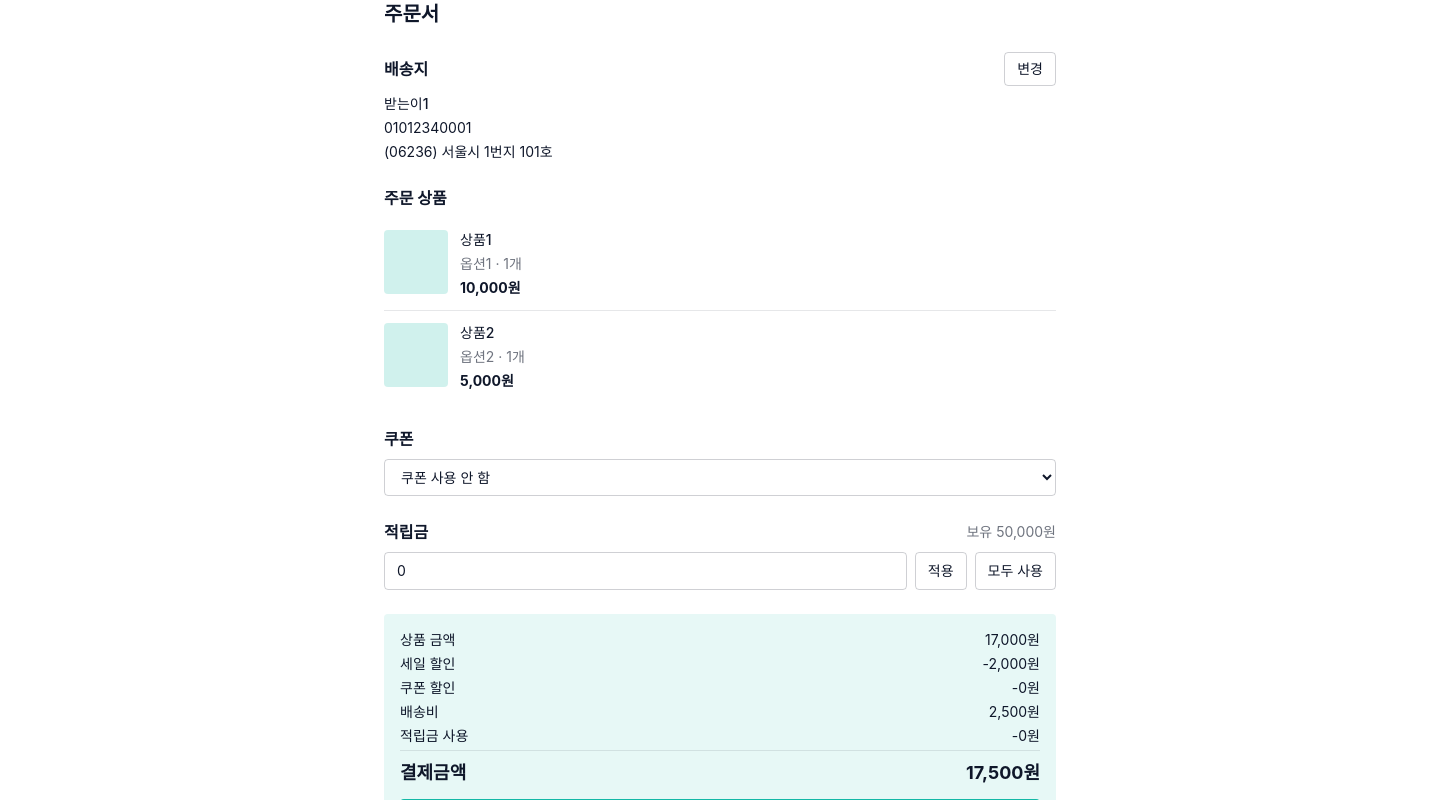
Scenario: 변경으로 다른 배송지를 고른다
Click the button "변경" at {"x": 1030, "y": 69}, box [1004,52,1056,86]
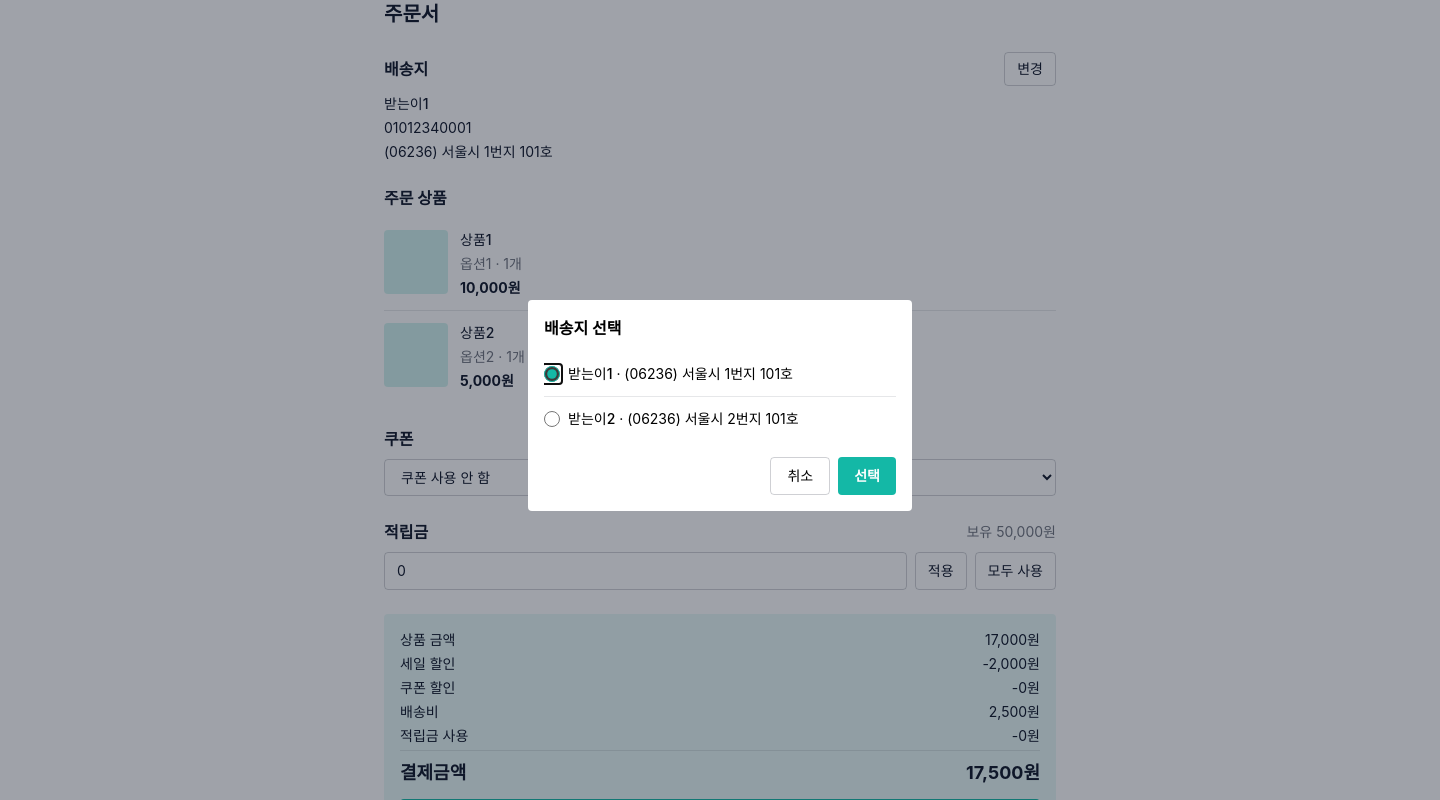
Click the radio button labelled "받는이2 · (06236) 서울시 2번지 101호" at {"x": 552, "y": 418}, box [544,410,560,426]
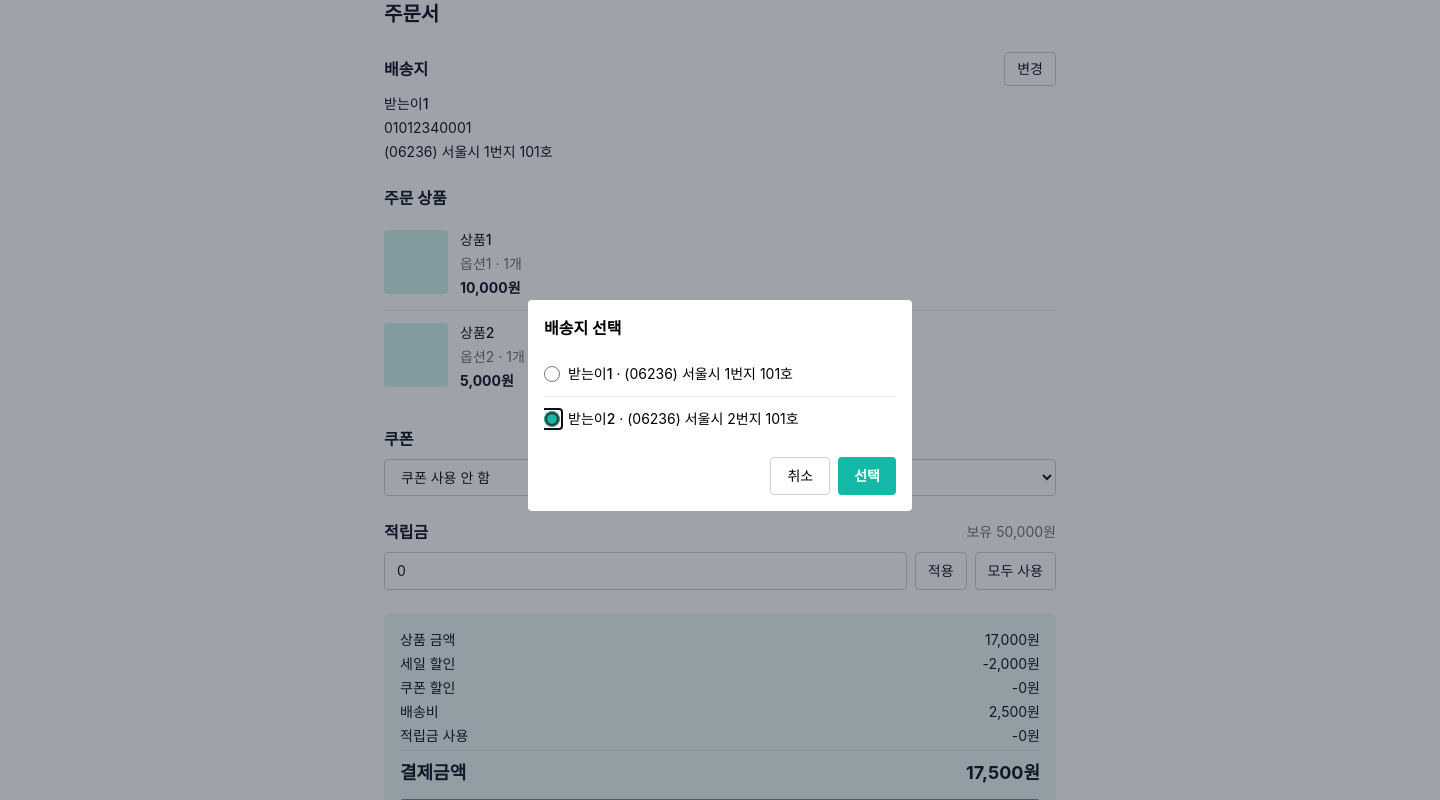
Click the button "선택" at {"x": 867, "y": 476}, box [838,456,896,494]
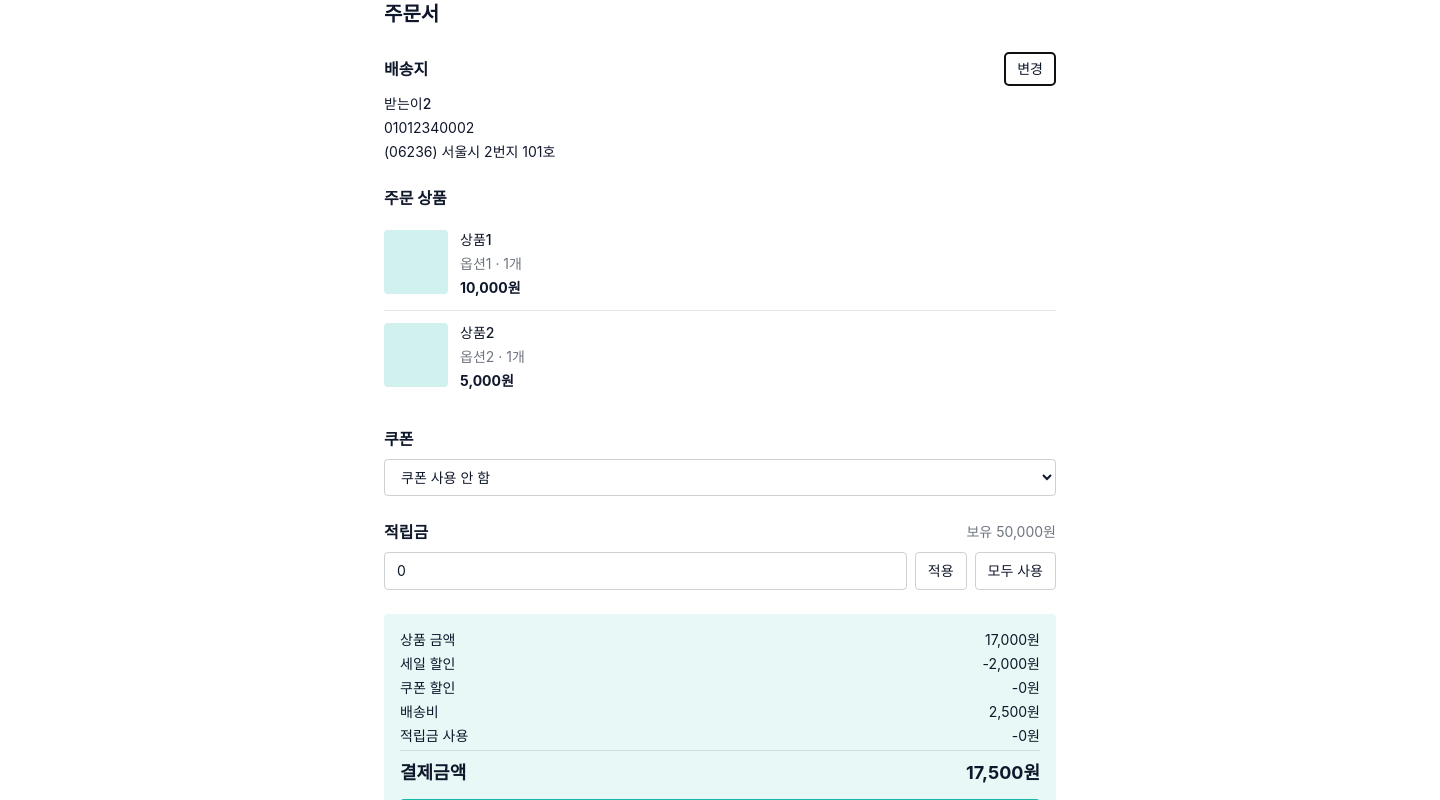
Result: the text "(06236) 서울시 2번지 101호" is shown at [384,143,556,160]
Result: the dialog is gone
